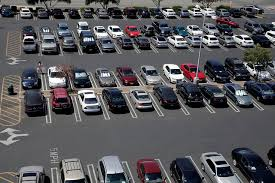car: (98, 88, 130, 119), (222, 81, 253, 110), (243, 80, 275, 108), (152, 85, 181, 112), (20, 88, 47, 116), (199, 83, 230, 107), (202, 60, 231, 83), (48, 88, 73, 114), (128, 87, 153, 113), (174, 83, 203, 105), (224, 56, 249, 81), (75, 90, 101, 114), (178, 62, 207, 82), (18, 66, 41, 89), (138, 64, 163, 85), (39, 35, 61, 57), (77, 30, 98, 53), (68, 69, 93, 88), (20, 35, 40, 58), (114, 66, 138, 85), (94, 68, 116, 86), (162, 63, 184, 81), (46, 68, 67, 86), (231, 33, 256, 48), (60, 37, 80, 54), (96, 37, 117, 53), (132, 36, 152, 52), (200, 33, 220, 49), (167, 34, 187, 49), (216, 35, 237, 49), (150, 34, 169, 49), (185, 34, 204, 49), (151, 21, 171, 34), (19, 25, 39, 38), (38, 26, 57, 39), (160, 8, 179, 21), (107, 5, 123, 20), (116, 36, 133, 50), (75, 22, 92, 36), (106, 25, 125, 37), (201, 22, 218, 35), (185, 25, 203, 37), (92, 24, 108, 37), (32, 6, 48, 19), (66, 7, 82, 20), (140, 24, 157, 36), (244, 21, 261, 33), (57, 23, 71, 37), (80, 6, 95, 19), (95, 7, 110, 20), (137, 7, 152, 20), (50, 7, 66, 19), (149, 7, 165, 19), (172, 25, 189, 36), (124, 26, 142, 36), (123, 7, 138, 19), (201, 6, 217, 17), (19, 7, 32, 19), (177, 8, 191, 18), (188, 8, 202, 17), (217, 7, 229, 17)
